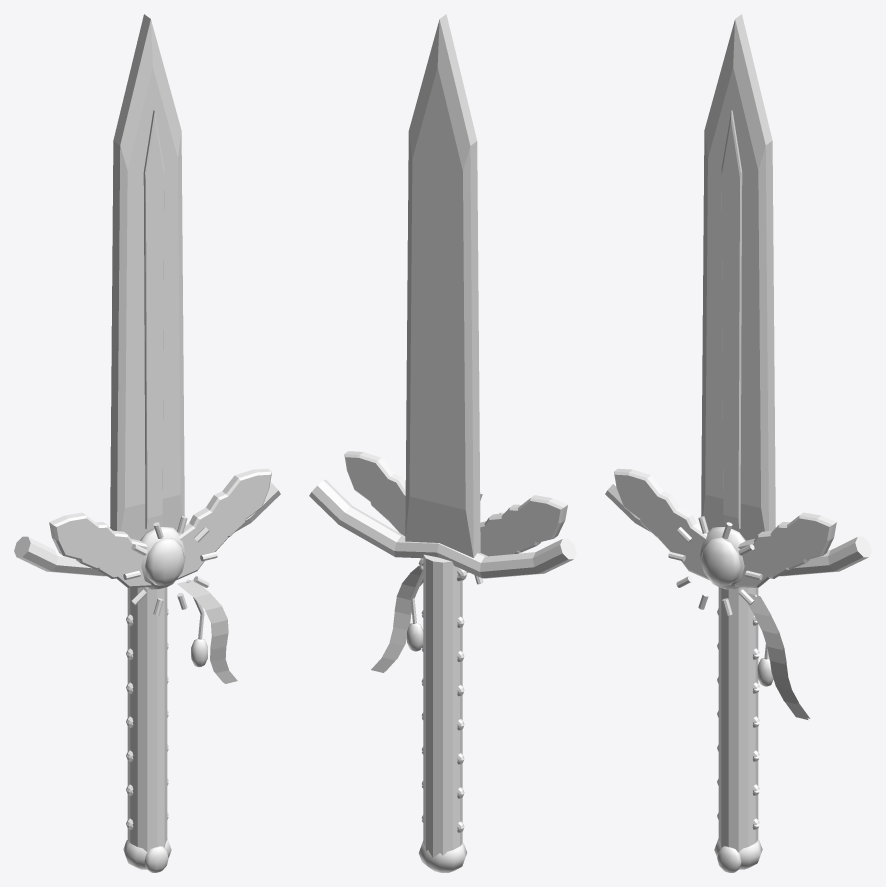
Rendered from sword.obj.
3 renders of one model, left to right at view 1: azimuth 30°, elevation 25°; view 2: azimuth 150°, elevation 25°; view 3: azimuth 330°, elevation 25°, orthographic.
Size of the model in its own units: 0.3839 by 1.19 by 0.0883.
